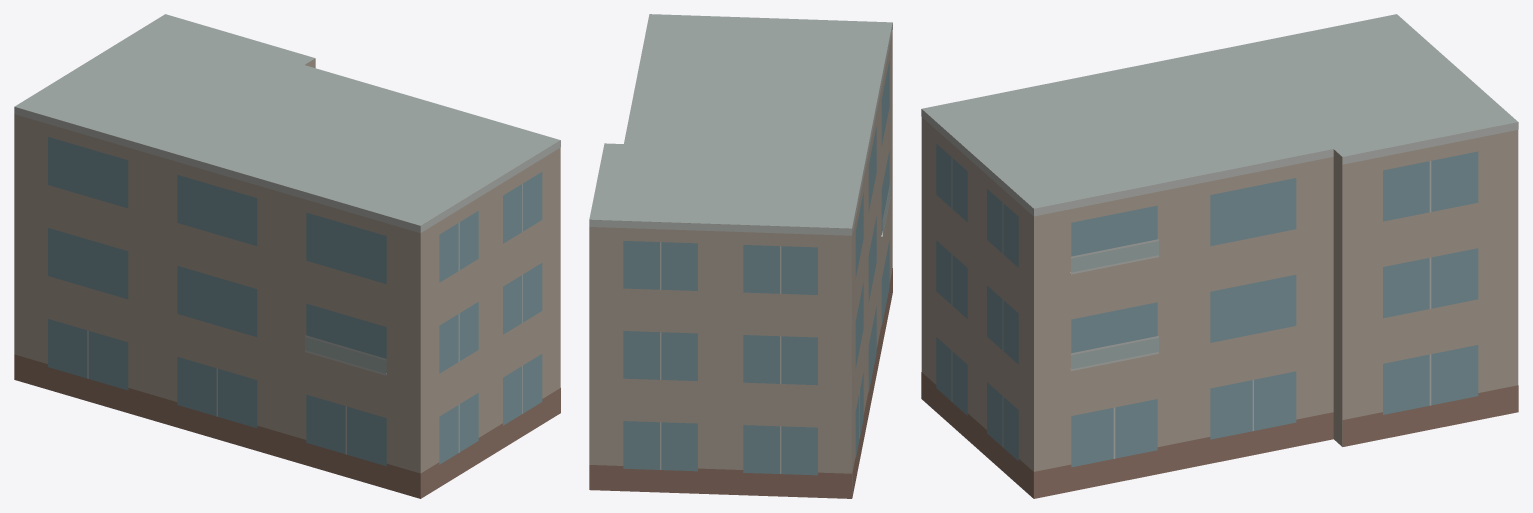
File: survey-upis-32700659.glb
3 views of the same model, side by side, from view 1: azimuth 30°, elevation 25°; view 2: azimuth 150°, elevation 25°; view 3: azimuth 270°, elevation 25° (orthographic). The views are drawn at different scales.
Parts seen in each view (by area): view 1: survey-upis-32700659.tmp; view 2: survey-upis-32700659.tmp; view 3: survey-upis-32700659.tmp.
Boxes of the visible parts, bbox=[...] form: survey-upis-32700659.tmp: bbox=[14, 14, 560, 498]; survey-upis-32700659.tmp: bbox=[589, 14, 892, 498]; survey-upis-32700659.tmp: bbox=[921, 14, 1518, 498].
Bounding box in the file's own units: 13.18 × 9.15 × 17.07.
